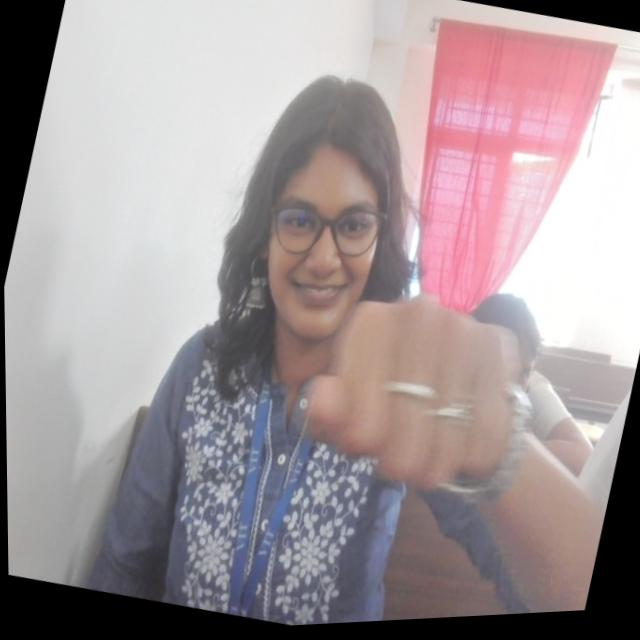yes: (282, 271, 543, 522)
